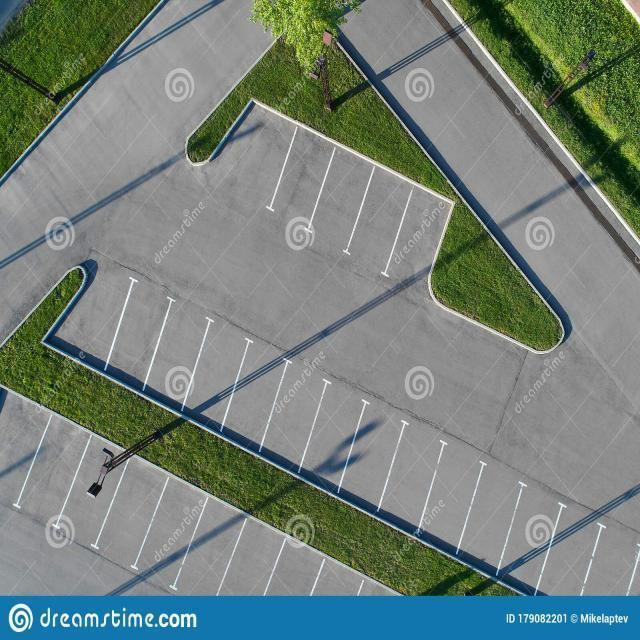space-empty: (11, 411, 99, 539), (46, 430, 133, 559), (380, 174, 466, 300), (89, 448, 175, 570), (128, 474, 216, 591), (339, 158, 424, 277), (40, 264, 135, 369), (304, 140, 386, 260), (452, 462, 531, 576), (262, 123, 342, 235), (166, 494, 252, 596), (140, 302, 217, 411), (175, 319, 254, 424), (410, 446, 486, 555), (250, 369, 330, 472), (374, 423, 450, 531), (102, 281, 178, 387), (295, 382, 371, 485), (333, 402, 406, 508), (223, 100, 281, 218), (208, 516, 291, 597), (0, 385, 54, 507), (542, 496, 598, 613), (497, 482, 551, 599), (248, 534, 331, 594), (571, 526, 637, 594), (292, 554, 374, 595), (0, 362, 9, 492)
